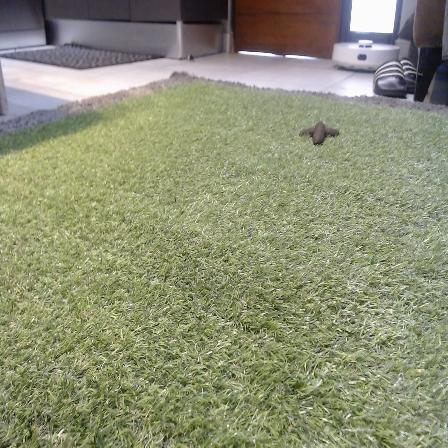dog-poop: (304, 119, 341, 147)
